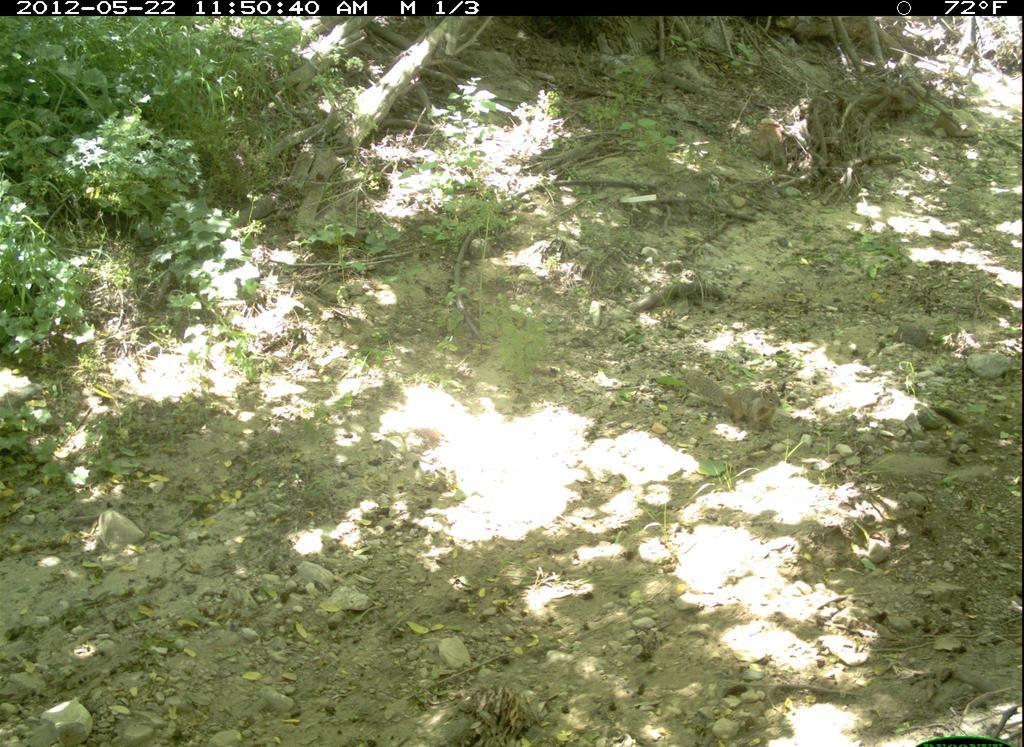squirrel: (676, 358, 794, 438)
